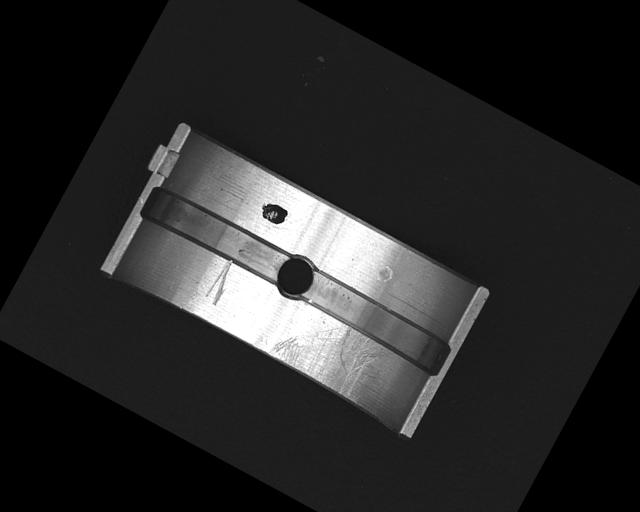blot: (256, 196, 290, 228)
bruise: (375, 264, 395, 285)
gap: (295, 267, 456, 379), (139, 182, 290, 286)
hole: (269, 248, 322, 305)
nick: (201, 255, 241, 307)
scratch: (266, 298, 390, 406)
